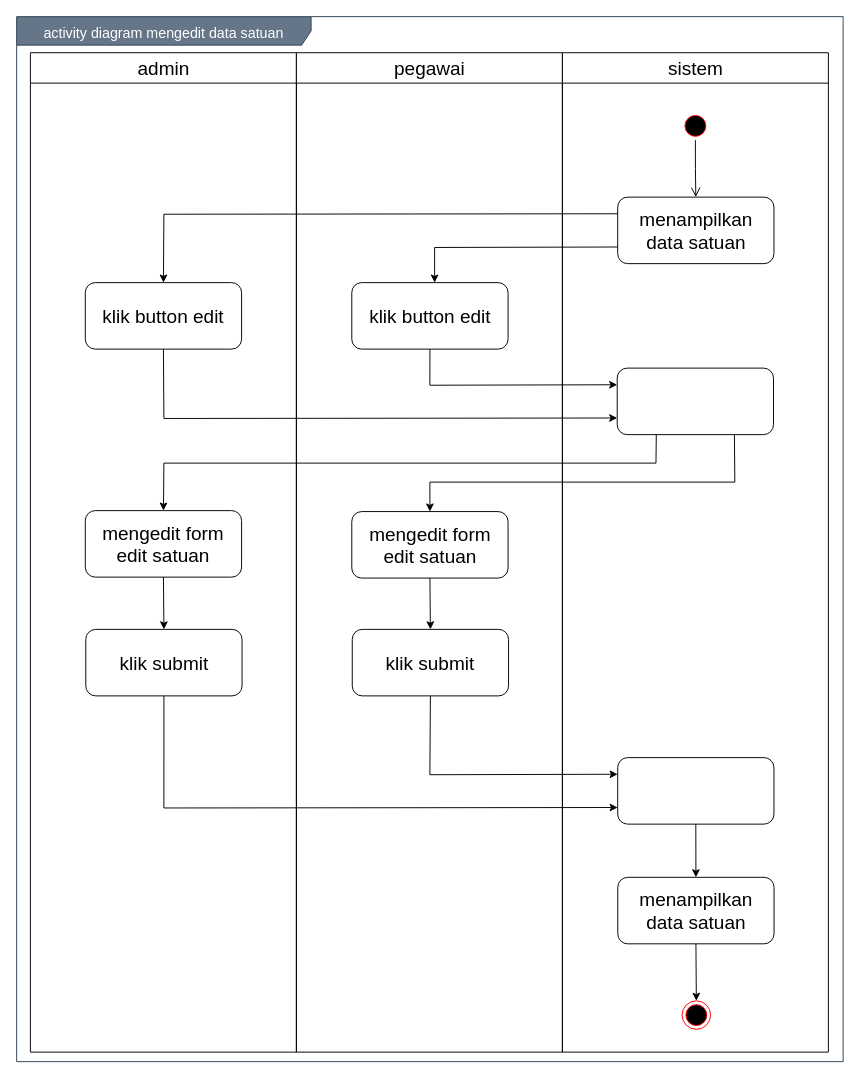
Image size: 860x1078. Some labels were removed from this diagram. Here are the shapes that lost their labels. From the top down, the centre of each, then its label:
the point at 694,401: menampilkan form edit satuan
the point at 695,790: menyimpan ke database
